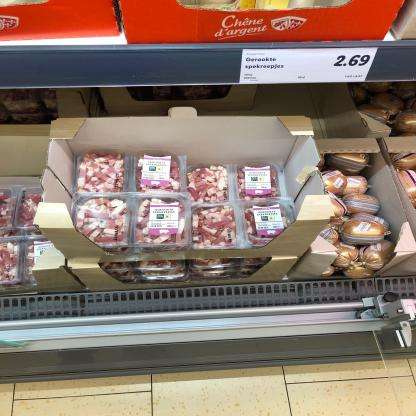prtg: (240, 48, 379, 84)
